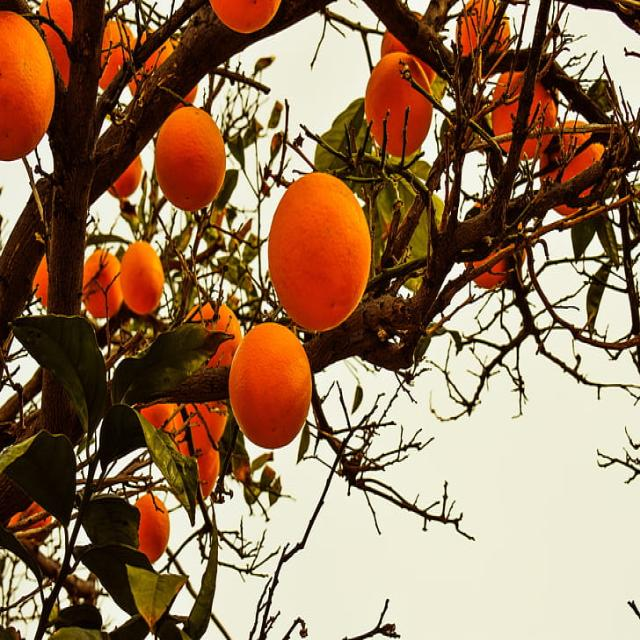orange: (268, 176, 386, 325), (226, 321, 325, 444), (0, 10, 62, 154), (158, 108, 230, 204), (119, 240, 161, 320), (134, 492, 172, 562)
